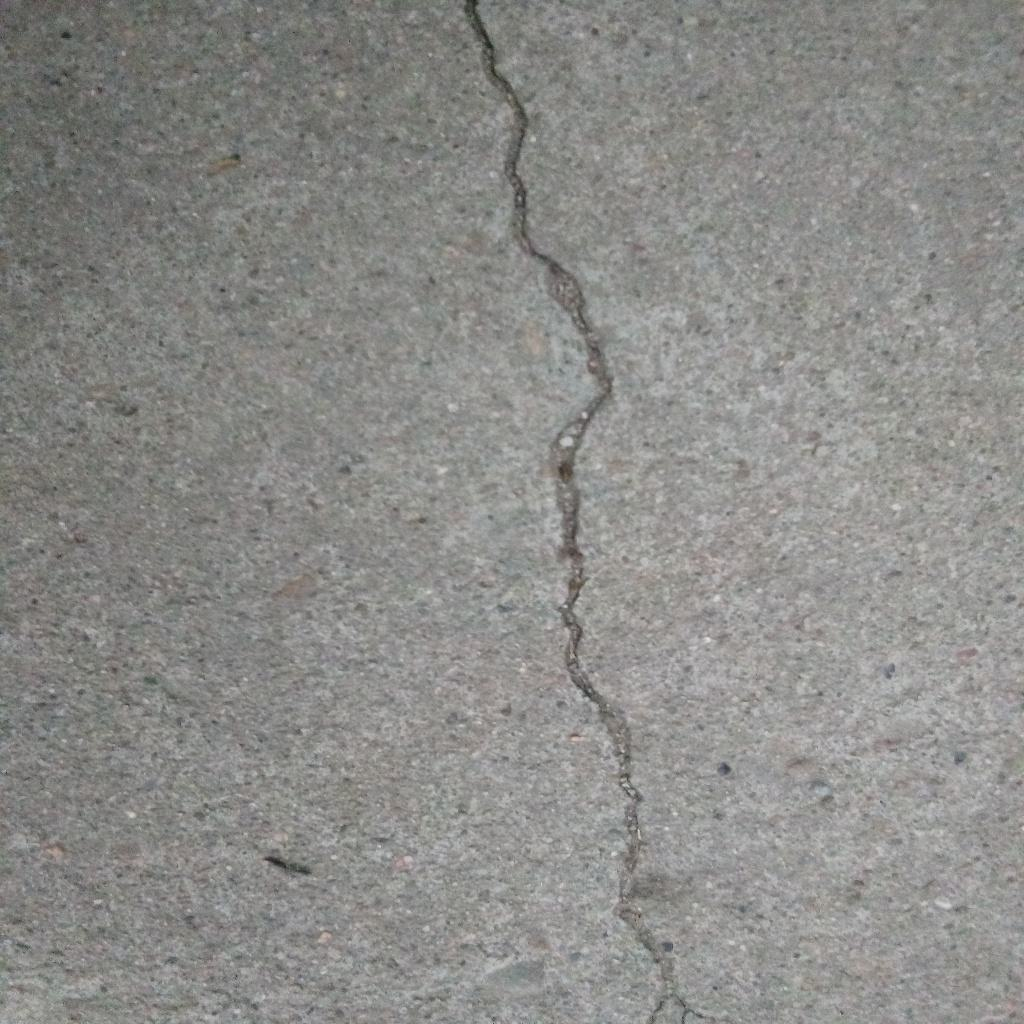Crack: (464, 1, 727, 1024)
